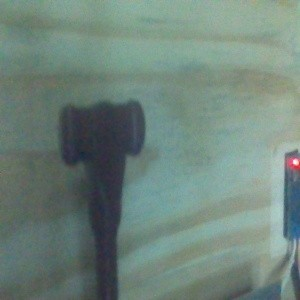palu: (58, 97, 147, 300)
